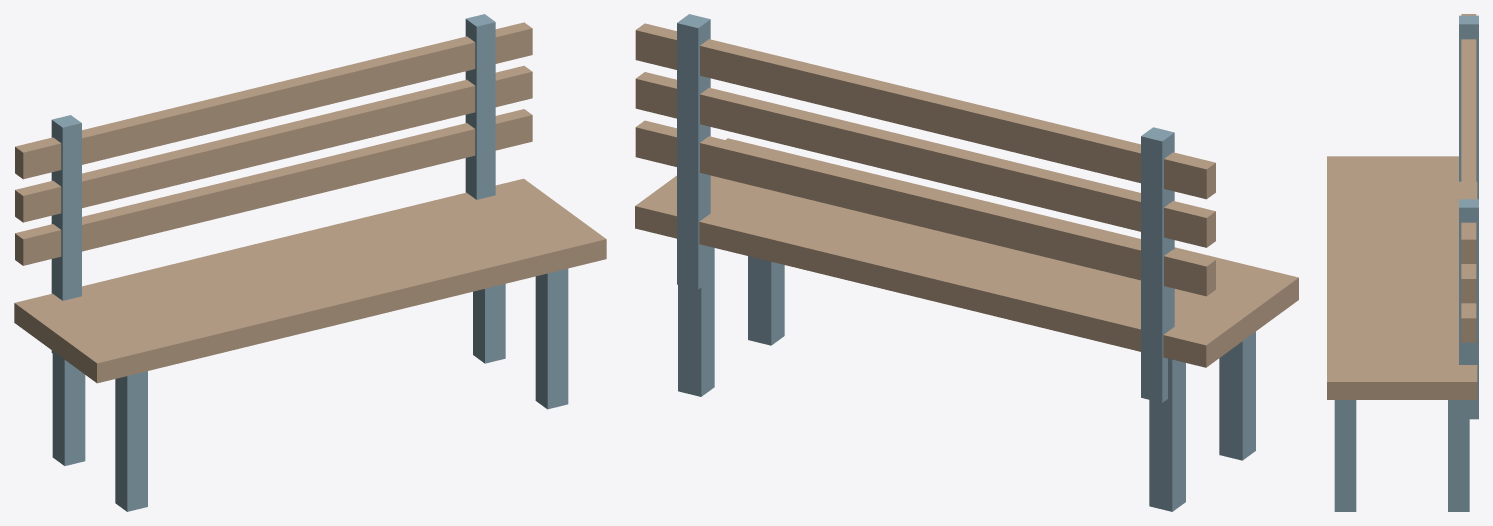
Rendered from prop-bench.glb.
3 renders of one model, left to right at view 1: azimuth 30°, elevation 25°; view 2: azimuth 150°, elevation 25°; view 3: azimuth 270°, elevation 25°, orthographic. The views are drawn at different scales.
Parts seen in each view (by area): view 1: seat, back-slat-0.78, back-slat-0.91, back-slat-0.65, back-post--1, back-post-1, leg-1-1, leg--1-1, leg--1--1, leg-1--1; view 2: seat, back-slat-0.65, back-slat-0.78, back-slat-0.91, back-post-1, back-post--1, leg--1--1, leg--1-1, leg-1--1, leg-1-1; view 3: seat, back-slat-0.91, leg-1-1, leg-1--1, back-post-1, back-post--1, back-slat-0.65, back-slat-0.78.
Part boxes in pixels (x1,y1,x2,y2): seat: (14,178,606,383); back-slat-0.78: (15,65,532,222); back-slat-0.91: (15,22,532,179); back-slat-0.65: (15,109,532,265); back-post--1: (51,115,81,353); back-post-1: (465,14,495,199); leg-1-1: (535,268,568,409); leg--1-1: (115,371,147,511); leg--1--1: (52,351,85,465); leg-1--1: (473,284,505,363); seat: (635,138,1298,367); back-slat-0.65: (635,120,1215,296); back-slat-0.78: (635,72,1215,247); back-slat-0.91: (635,23,1215,199); back-post-1: (677,14,710,289); back-post--1: (1141,127,1174,402); leg--1--1: (1149,358,1185,511); leg--1-1: (1219,331,1255,460); leg-1--1: (678,247,714,396); leg-1-1: (748,256,784,345); seat: (1327,156,1477,399); back-slat-0.91: (1461,14,1476,263); leg-1-1: (1334,400,1356,511); leg-1--1: (1448,400,1469,511); back-post-1: (1459,199,1478,419); back-post--1: (1459,15,1478,199); back-slat-0.65: (1461,303,1476,342); back-slat-0.78: (1461,264,1476,303).
Size of the model in its own units: 1.6 by 1 by 0.455.
